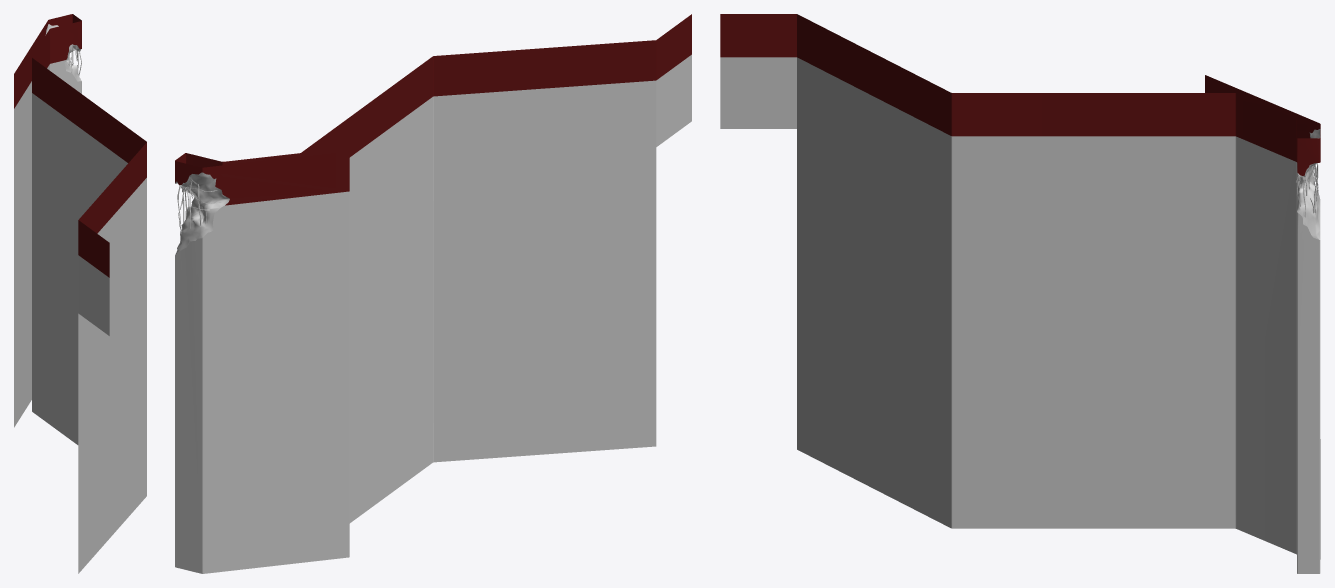
File: SM_H_Building_Tide_Jail_B_01a_ATLAS.fbx
The picture shows the model from 3 angles, left to right: view 1: azimuth 30°, elevation 25°; view 2: azimuth 150°, elevation 25°; view 3: azimuth 270°, elevation 25°; orthographic projection. The views are drawn at different scales.
Parts seen in each view (by area): view 1: SM_H_Building_Tide_Jail_B_01a_ATLAS_LOD0; view 2: SM_H_Building_Tide_Jail_B_01a_ATLAS_LOD0; view 3: SM_H_Building_Tide_Jail_B_01a_ATLAS_LOD0.
Boxes of the visible parts, box(x1,y1,x2,y2) form: SM_H_Building_Tide_Jail_B_01a_ATLAS_LOD0: box(14, 14, 146, 573); SM_H_Building_Tide_Jail_B_01a_ATLAS_LOD0: box(175, 14, 691, 573); SM_H_Building_Tide_Jail_B_01a_ATLAS_LOD0: box(720, 14, 1320, 573).
Size of the model in its own units: 1114 by 2260 by 1811.
